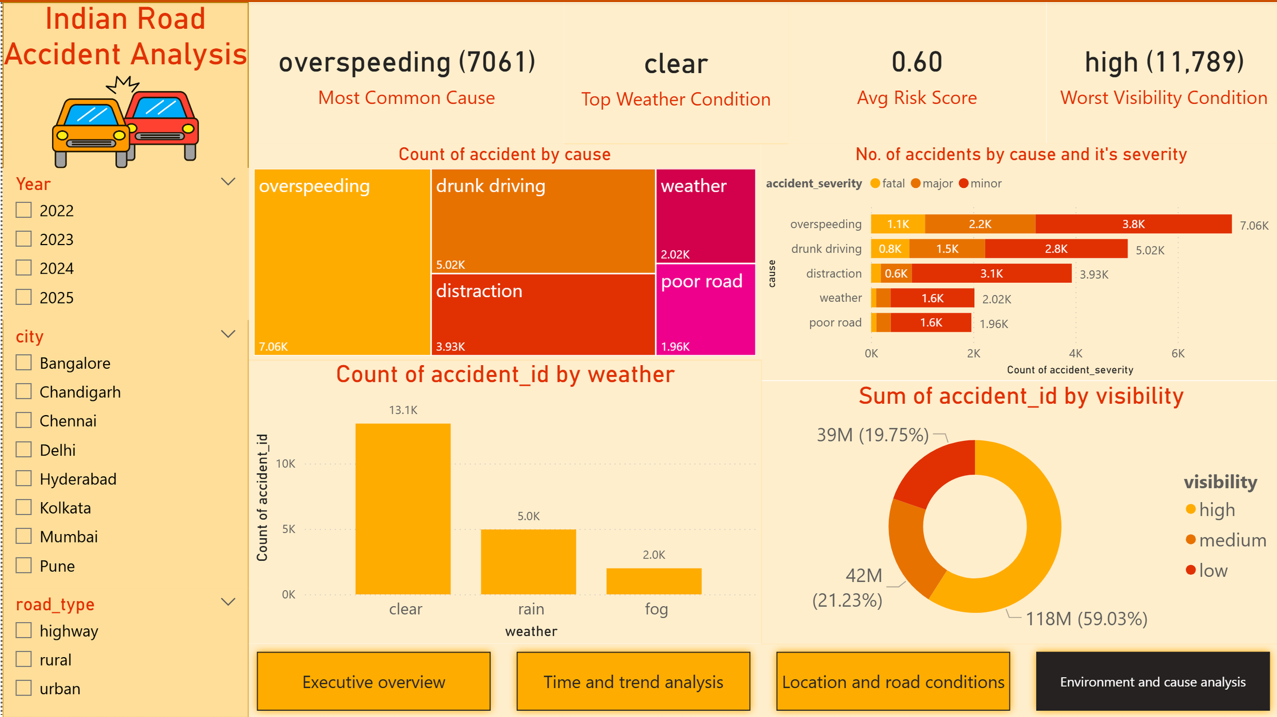

The page's visual inventory and layout, read from the dashboard file:
{"tool":"powerbi","page":{"name":"Environment and cause analysis","canvas":[1280,720],"ordinal":3},"visuals":[{"type":"shape","box":[0,2.5,246.3,718],"z":0},{"type":"card","fields":{"Values":["Table.Most Common Cause"]},"box":[246.3,0,315.7,143.6],"z":1000},{"type":"card","fields":{"Values":["Table.Top Weather Condition"]},"box":[562,2.5,224.1,142.4],"z":2000},{"type":"donutChart","fields":{"Y":["Sum(indian_roads_dataset.accident_id)"],"Category":["indian_roads_dataset.visibility"]},"box":[758.8,381.3,521.2,263.7],"z":3000},{"type":"columnChart","fields":{"Category":["indian_roads_dataset.weather"],"Y":["CountNonNull(indian_roads_dataset.accident_id)"]},"box":[246.3,360.2,513.7,284.7],"z":4000},{"type":"slicer","fields":{"Values":["indian_roads_dataset.city"]},"box":[0,320.6,246.3,268.6],"z":5000},{"type":"slicer","fields":{"Values":["indian_roads_dataset.Year"]},"box":[0,168.4,246.3,152.3],"z":6000},{"type":"slicer","fields":{"Values":["indian_roads_dataset.road_type"]},"box":[0,589.2,246.3,131.2],"z":7000},{"type":"image","title":"Indian Road Accident Analysis","box":[0,0,246.3,168.4],"z":8000},{"type":"pageNavigator","box":[246.3,645,1033.7,75.5],"z":9000},{"type":"barChart","title":"No. of accidents by cause and it''s severity","fields":{"Category":["indian_roads_dataset.cause"],"Y":["CountNonNull(indian_roads_dataset.accident_severity)"],"Series":["indian_roads_dataset.accident_severity"]},"box":[758.8,143.6,521.2,237.7],"z":10000},{"type":"card","fields":{"Values":["Table.Avg Risk Score"]},"box":[786.1,0,258.7,143.6],"z":11000},{"type":"card","fields":{"Values":["Table.Max Visibility"]},"box":[1044.8,0,235.2,143.6],"z":12000},{"type":"treemap","title":"Count of accident by cause","fields":{"Group":["indian_roads_dataset.cause"],"Values":["CountNonNull(indian_roads_dataset.accident_id)"]},"box":[246.3,143.6,512.5,217.9],"z":13000}]}

Visuals, with their boxes in screenshot pixels (x1, y1, x2, y2), scaled from the page's 1280x720 canvas onto the 1277x717 screenshot:
shape: {"left": 0, "top": 2, "right": 246, "bottom": 716}
card - Table.Most Common Cause: {"left": 246, "top": 0, "right": 561, "bottom": 143}
card - Table.Top Weather Condition: {"left": 561, "top": 2, "right": 784, "bottom": 144}
donutChart - Sum(indian_roads_dataset.accident_id) x indian_roads_dataset.visibility: {"left": 757, "top": 380, "right": 1276, "bottom": 642}
columnChart - indian_roads_dataset.weather x CountNonNull(indian_roads_dataset.accident_id): {"left": 246, "top": 359, "right": 758, "bottom": 642}
slicer - indian_roads_dataset.city: {"left": 0, "top": 319, "right": 246, "bottom": 587}
slicer - indian_roads_dataset.Year: {"left": 0, "top": 168, "right": 246, "bottom": 319}
slicer - indian_roads_dataset.road_type: {"left": 0, "top": 587, "right": 246, "bottom": 716}
"Indian Road Accident Analysis" image: {"left": 0, "top": 0, "right": 246, "bottom": 168}
pageNavigator: {"left": 246, "top": 642, "right": 1276, "bottom": 716}
"No. of accidents by cause and it''s severity" barChart: {"left": 757, "top": 143, "right": 1276, "bottom": 380}
card - Table.Avg Risk Score: {"left": 784, "top": 0, "right": 1042, "bottom": 143}
card - Table.Max Visibility: {"left": 1042, "top": 0, "right": 1276, "bottom": 143}
"Count of accident by cause" treemap: {"left": 246, "top": 143, "right": 757, "bottom": 360}
